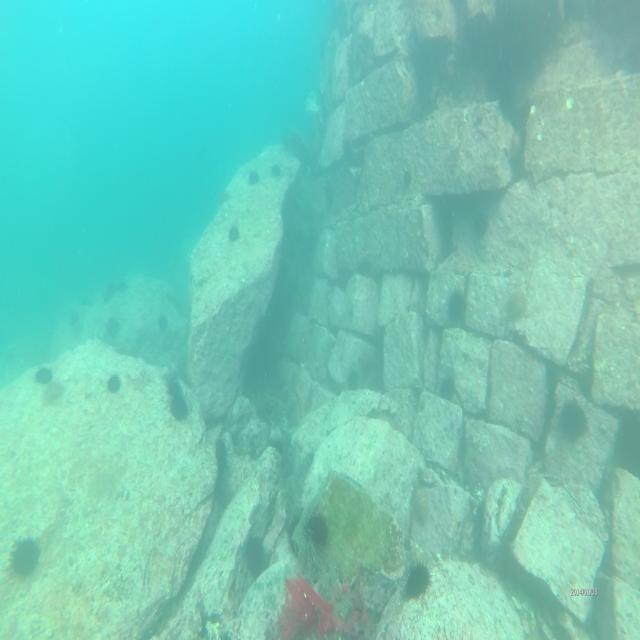echinus: (2, 532, 50, 590), (558, 394, 592, 447), (403, 555, 436, 605), (241, 532, 265, 581), (301, 512, 328, 552), (447, 287, 467, 329), (506, 290, 527, 326), (41, 377, 66, 405), (471, 209, 491, 244), (169, 392, 190, 424), (438, 372, 456, 406), (213, 436, 228, 472), (344, 369, 361, 396), (32, 365, 54, 385), (323, 177, 335, 211), (65, 307, 82, 330), (106, 372, 122, 396), (106, 315, 119, 343), (102, 276, 116, 301), (156, 311, 170, 336), (402, 166, 414, 194), (165, 377, 181, 398), (116, 277, 130, 296), (247, 169, 261, 188), (227, 223, 240, 243), (218, 188, 232, 202), (270, 162, 282, 178)
